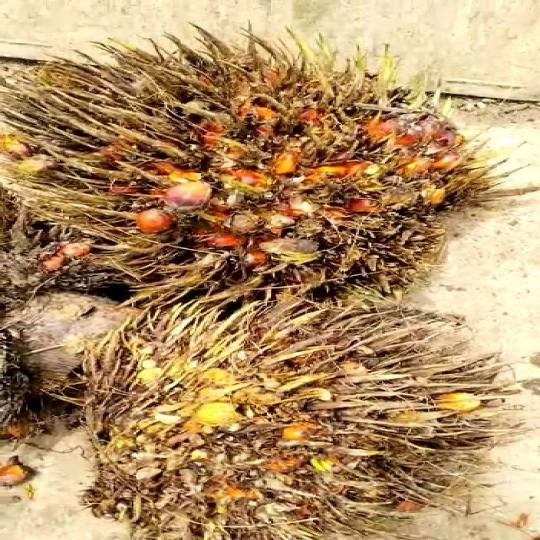terlalu masak: (0, 37, 531, 293), (72, 289, 506, 540)
